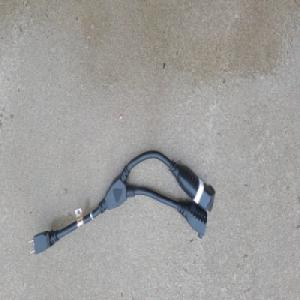Wire: (27, 148, 217, 256)
